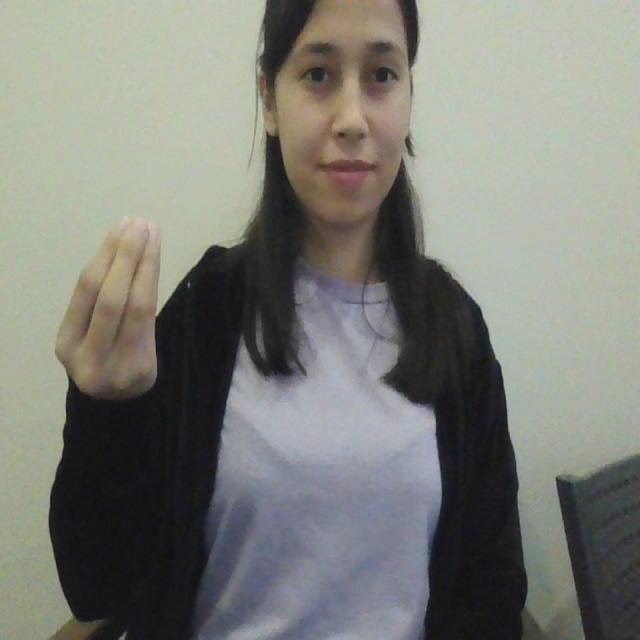iyi: (48, 208, 175, 392)
